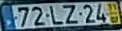2: (31, 5, 46, 26), (82, 2, 96, 24)
4: (95, 2, 107, 23)
7: (16, 5, 30, 27)
L: (48, 4, 63, 26)
Z: (61, 3, 79, 24)
